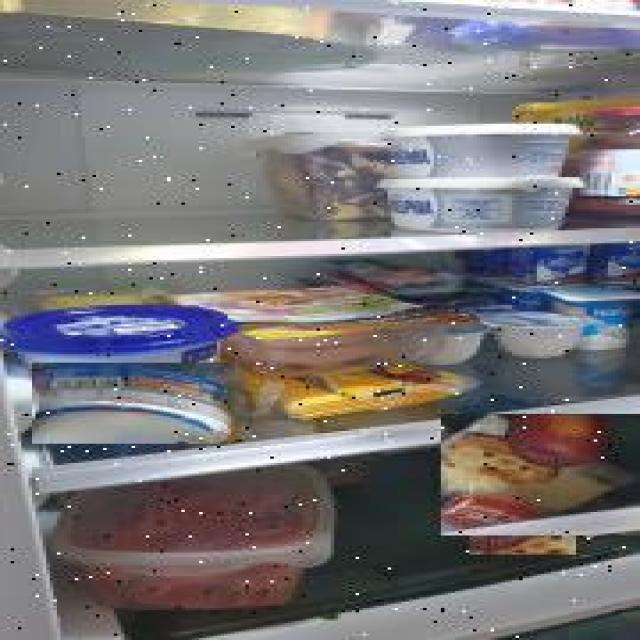apple: (469, 479, 576, 556)
cheese: (34, 362, 240, 443)
grated_cheese: (441, 414, 640, 535)
marmelade: (569, 107, 640, 216)
